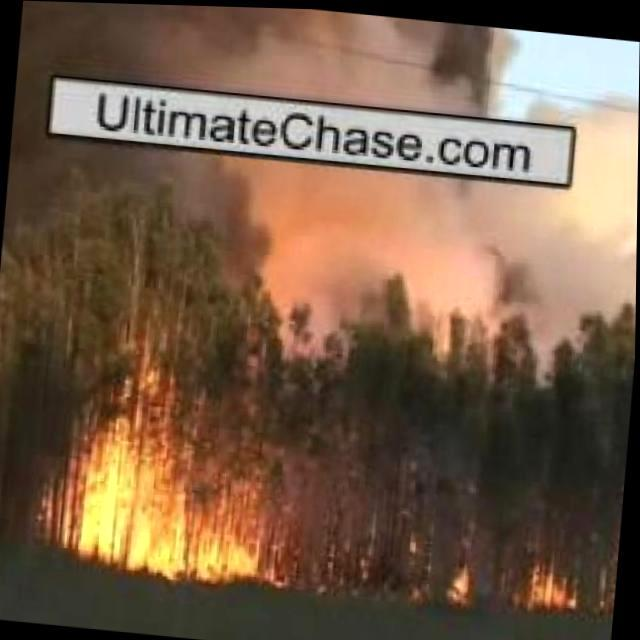fire: (36, 389, 284, 583), (521, 551, 587, 611), (442, 552, 483, 600)
